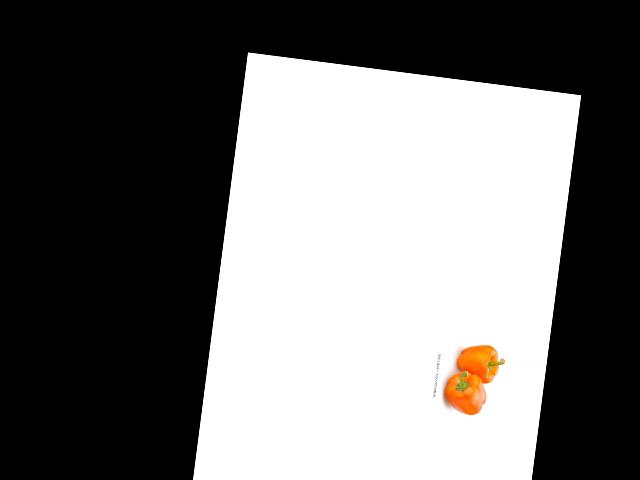bell_pepper: (437, 366, 491, 418)
